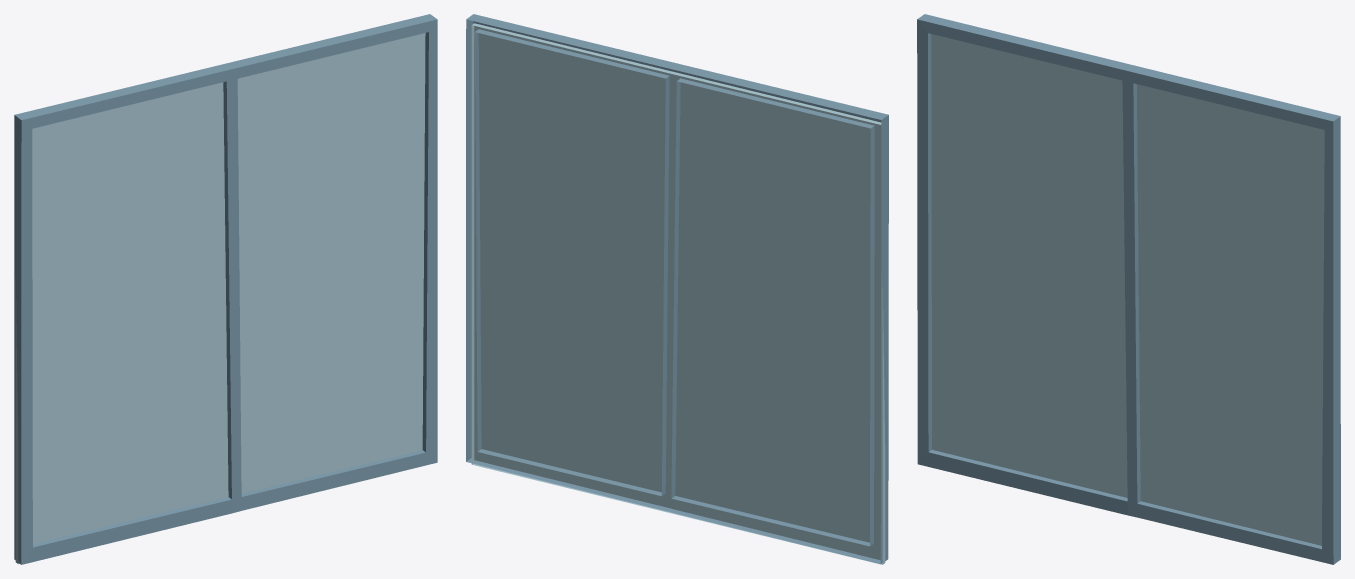
Rendered from Window_19.fbx.
3 views of the same model, side by side, from view 1: azimuth 30°, elevation 25°; view 2: azimuth 150°, elevation 25°; view 3: azimuth 330°, elevation 25° (orthographic).
Parts seen in each view (by area): view 1: Window_19; view 2: Window_19; view 3: Window_19.
Part boxes in pixels (box(x1,y1,x2,y2)): Window_19: box(14, 14, 437, 564); Window_19: box(466, 14, 888, 564); Window_19: box(917, 14, 1340, 564).
Bounding box in the file's own units: 260 × 8.36 × 267.
